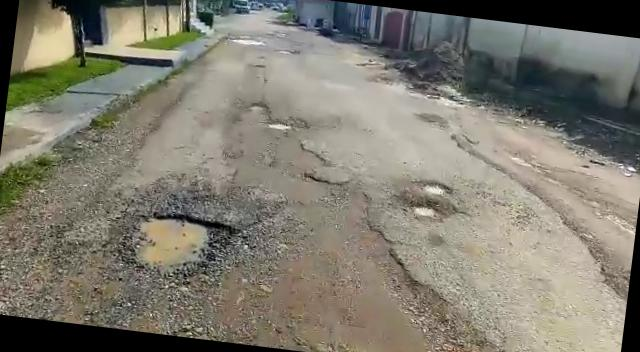pothole: (130, 212, 239, 289), (419, 178, 453, 198), (410, 204, 440, 219), (267, 120, 293, 132), (247, 100, 269, 112)
